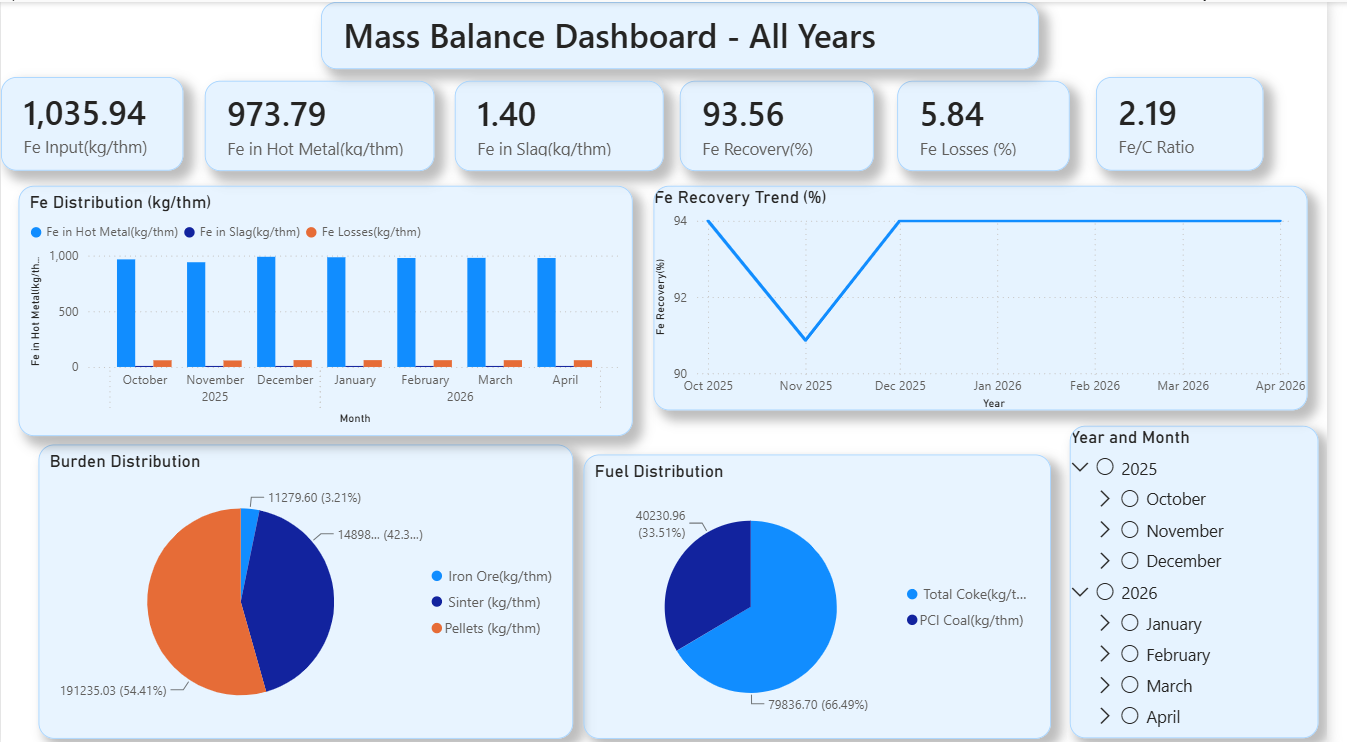

This screenshot's page, from the dashboard's own definition file:
{"tool":"powerbi","page":{"name":"Mass Balance","canvas":[1280,720],"ordinal":0},"visuals":[{"type":"cardVisual","fields":{"Data":["Avg(Mass Balance.Fe/C Ratio)"]},"box":[1056.8,72.4,161.7,90.5],"z":0},{"type":"pieChart","title":"Burden Distribution","fields":{"Y":["Sum(Mass Balance.Iron Ore(kg/thm))","Sum(Mass Balance.Sinter (kg/thm))","Sum(Mass Balance.Pellets (kg/thm))"]},"box":[35.7,426.8,516,284],"z":1000},{"type":"pieChart","title":"Fuel Distribution","fields":{"Y":["Sum(Mass Balance.Total Coke(kg/thm))","Sum(Mass Balance.PCI Coal(kg/thm))"]},"box":[562.6,436.4,451.5,274.4],"z":2000},{"type":"cardVisual","fields":{"Data":["Avg(Production (2).Fe Recovery(%))"]},"box":[655.1,76,187,86.9],"z":3000},{"type":"cardVisual","fields":{"Data":["Avg(Production (2).Fe Losses (%))"]},"box":[865,76,166.5,86.9],"z":4000},{"type":"cardVisual","fields":{"Data":["Mass Balance.Dashboard Title"]},"box":[308.7,0,693,64.5],"z":5000},{"type":"cardVisual","fields":{"Data":["Avg(Production (2).Fe in Hot Metal(kg/thm))"]},"box":[196.6,76,222,86.9],"z":6000},{"type":"cardVisual","fields":{"Data":["Avg(Production (2).Fe in Slag(kg/thm))"]},"box":[437.9,76,201.5,86.9],"z":7000},{"type":"cardVisual","fields":{"Data":["Avg(Production (2).Fe Input(kg/thm))"]},"box":[0,72.4,176.1,90.5],"z":8000},{"type":"clusteredColumnChart","title":" Fe Distribution (kg/thm)","fields":{"Y":["Avg(Production.Fe in Hot Metal(kg/thm))","Avg(Production.Fe in Slag(kg/thm))","Avg(Production.Fe Losses(kg/thm))"],"Category":["Mass Balance.Date.Variation.Date Hierarchy.Year","Mass Balance.Date.Variation.Date Hierarchy.Month"]},"box":[16.5,177,592.8,241.5],"z":9000},{"type":"listSlicer","fields":{"Values":["Mass Balance.Date.Variation.Date Hierarchy.Year","Mass Balance.Date.Variation.Date Hierarchy.Month","Mass Balance.Date.Variation.Date Hierarchy.Day"]},"box":[1031.5,409,240.1,301.6],"z":10000},{"type":"lineChart","title":"Fe Recovery Trend (%)","fields":{"Y":["Avg(Production.Fe Recovery(%))"],"Category":["Mass Balance.Date.Variation.Date Hierarchy.Year","Mass Balance.Date.Variation.Date Hierarchy.Month"]},"box":[629.8,177.3,631,217.2],"z":11000}]}

Visuals, with their boxes in screenshot pixels (x1, y1, x2, y2), scaled from the page's 1280x720 canvas onto the 1347x742 screenshot:
cardVisual - Avg(Mass Balance.Fe/C Ratio): l=1112, t=75, r=1282, b=168
"Burden Distribution" pieChart: l=38, t=440, r=581, b=733
"Fuel Distribution" pieChart: l=592, t=450, r=1067, b=733
cardVisual - Avg(Production (2).Fe Recovery(%)): l=689, t=78, r=886, b=168
cardVisual - Avg(Production (2).Fe Losses (%)): l=910, t=78, r=1085, b=168
cardVisual - Mass Balance.Dashboard Title: l=325, t=0, r=1054, b=66
cardVisual - Avg(Production (2).Fe in Hot Metal(kg/thm)): l=207, t=78, r=441, b=168
cardVisual - Avg(Production (2).Fe in Slag(kg/thm)): l=461, t=78, r=673, b=168
cardVisual - Avg(Production (2).Fe Input(kg/thm)): l=0, t=75, r=185, b=168
" Fe Distribution (kg/thm)" clusteredColumnChart: l=17, t=182, r=641, b=431
listSlicer - Mass Balance.Date.Variation.Date Hierarchy.Year x Mass Balance.Date.Variation.Date Hierarchy.Month: l=1085, t=421, r=1338, b=732
"Fe Recovery Trend (%)" lineChart: l=663, t=183, r=1327, b=407
